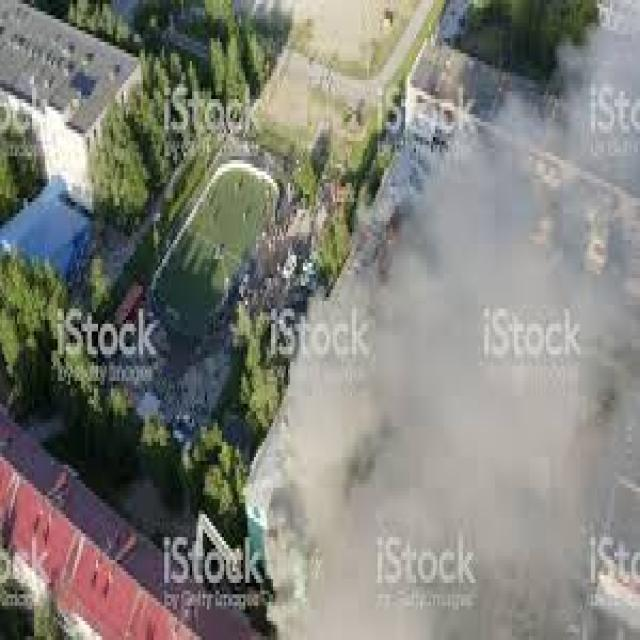Smoke: (256, 114, 640, 640)
